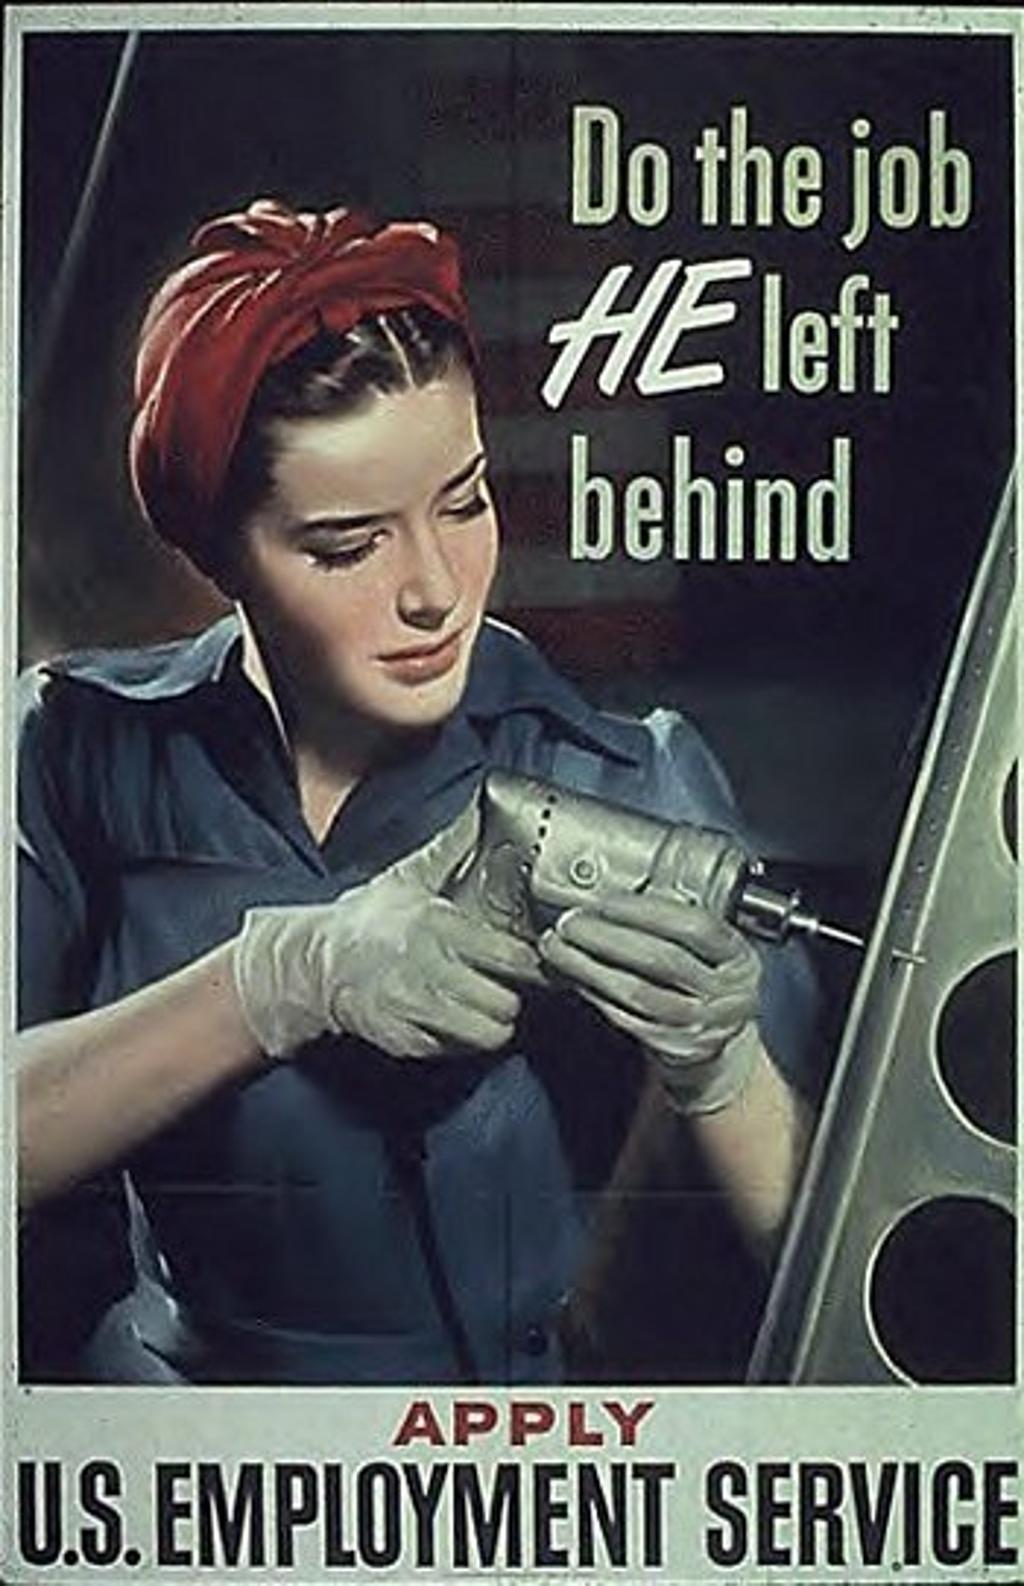face: (278, 402, 491, 718)
